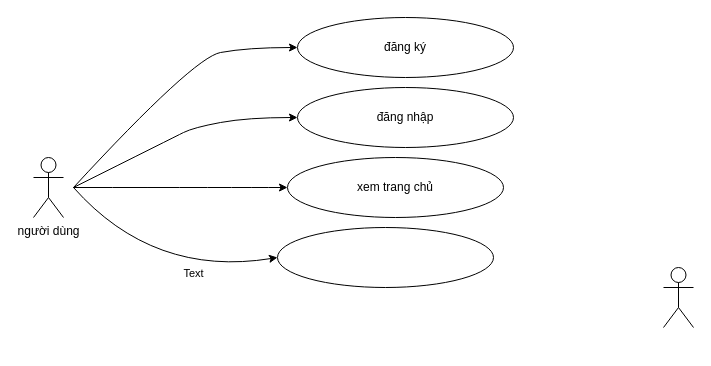
This 711x366 diagram has some shape labels left out. Each missing label, with the box of its shape:
Actor: (662, 266, 694, 328)
tìm kiếm: (276, 226, 494, 288)
